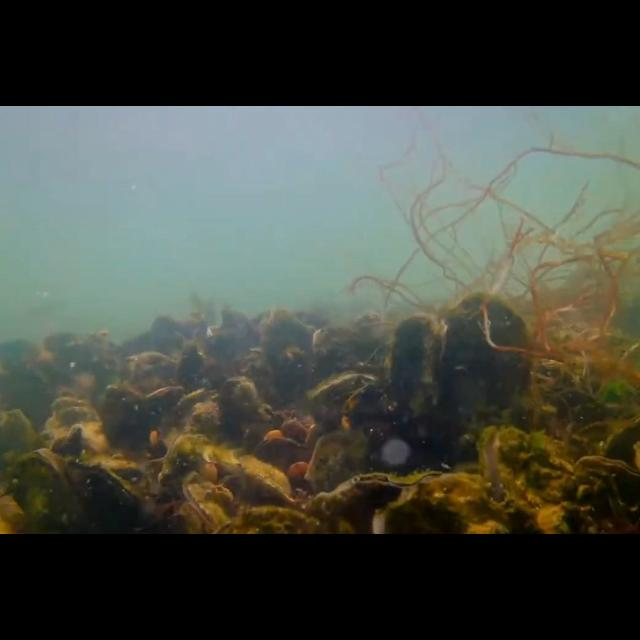Oyster-Closed: (441, 294, 529, 422), (561, 455, 640, 535), (390, 316, 448, 422), (8, 449, 78, 535), (306, 431, 372, 494), (158, 434, 210, 508), (102, 382, 152, 454), (0, 410, 38, 484), (236, 456, 294, 500), (52, 422, 84, 453)
Oyster-Open: (476, 425, 574, 535), (68, 460, 156, 534), (305, 371, 385, 429), (182, 481, 228, 535), (171, 387, 221, 431)
